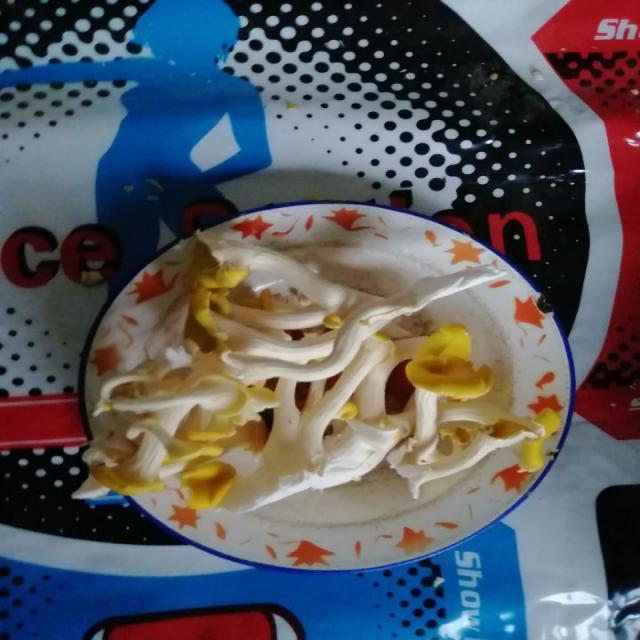Pleurotus citrinopileatus: (89, 232, 543, 505)
